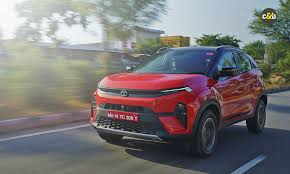Tata Nexon: (89, 44, 267, 161)
